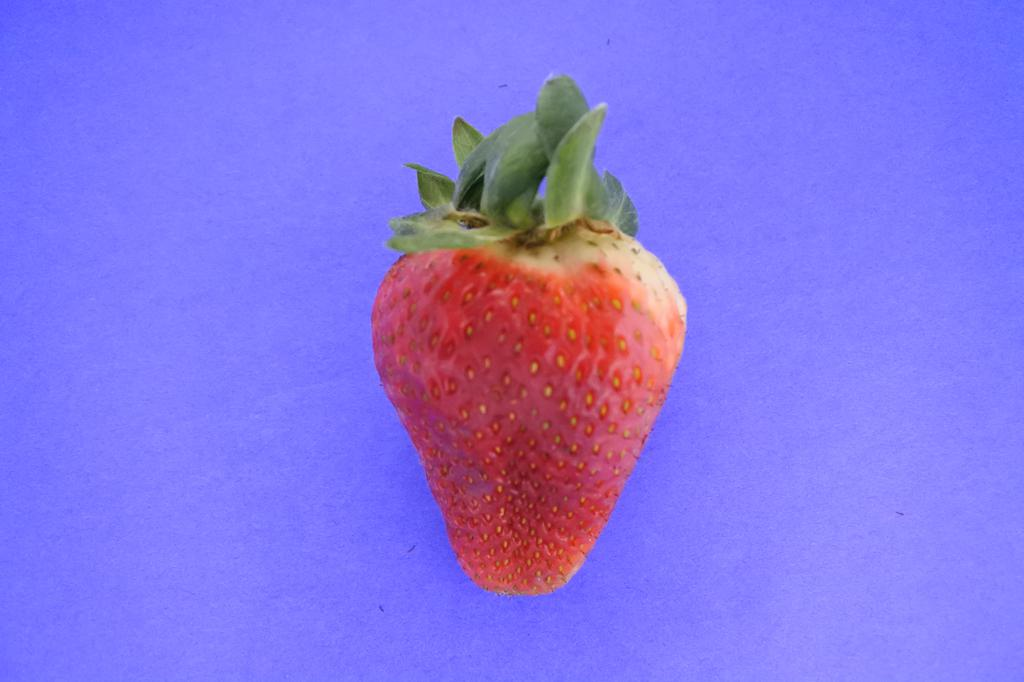red strawberry: (370, 78, 688, 596)
